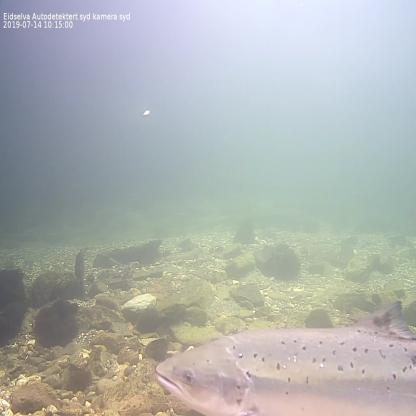salmon: (150, 299, 416, 416)
